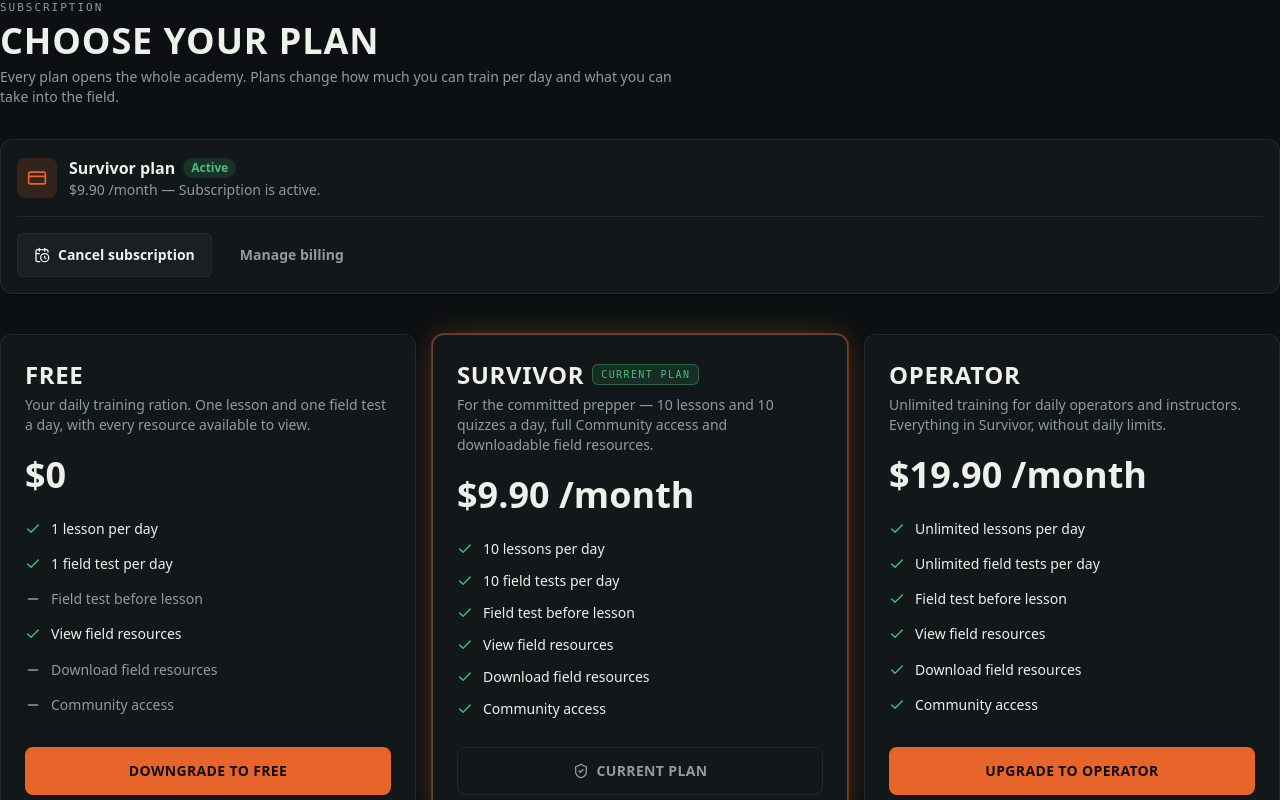
Scenario: PlansPage (billing disabled) › never claims a payment — a missing dev endpoint renders the honest billing note
Expected: the heading "Choose Your Plan" is shown, [0, 16, 379, 64]
Click the button "Upgrade to Operator" at (1072, 770), box [889, 746, 1255, 794]
(page scrolled)
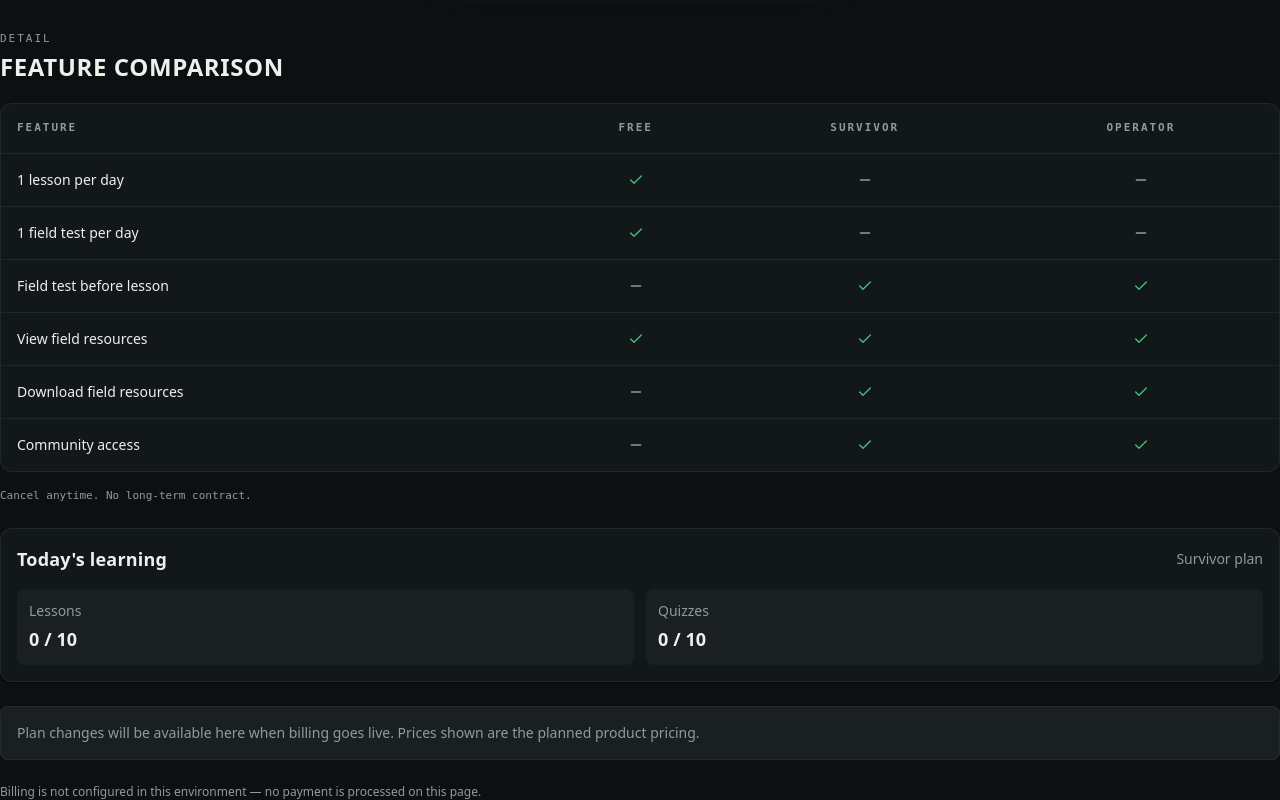
Expected: the text "no payment is processed on this page" is shown, [0, 783, 481, 799]
Now the text "when billing goes live" is shown, box [17, 723, 700, 742]
